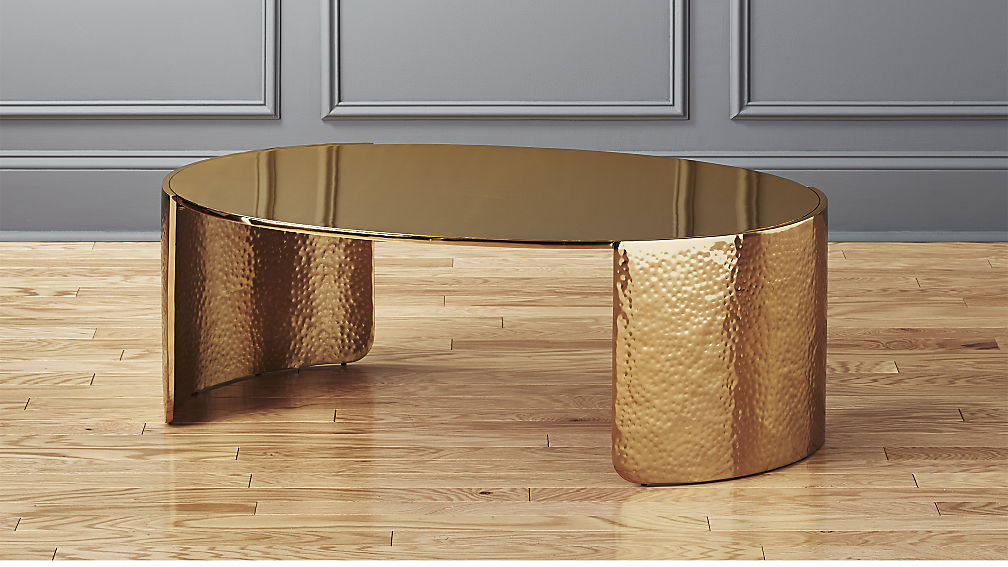table: (153, 134, 841, 499)
